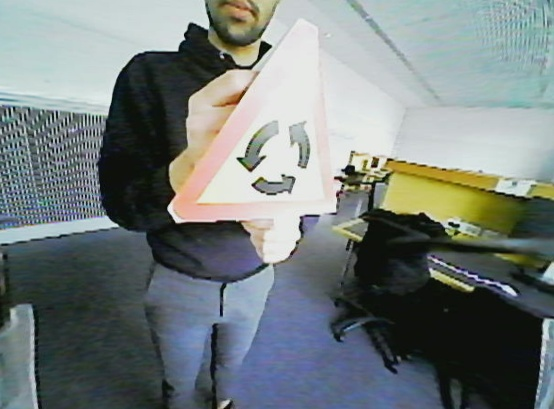roundabout_warning: (162, 16, 342, 224)
